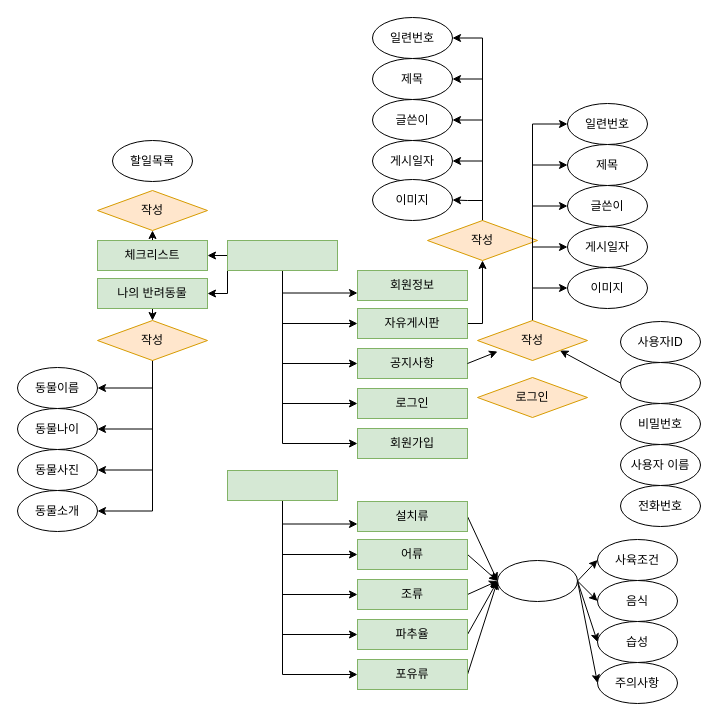
The diagram is 718 pixels wide and 721 high, and some of its shapes have lost their labels. Each missing label, with the centre of its shape:
Home: point (282, 255)
권한: point (660, 383)
동물메뉴: point (282, 485)
동물종류: point (537, 581)
